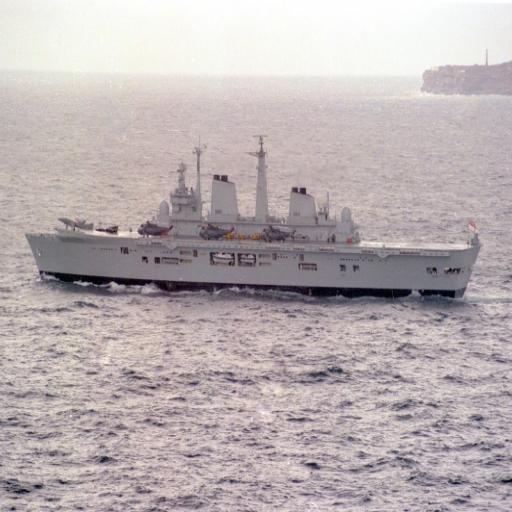Portanaves: (22, 128, 485, 304)
